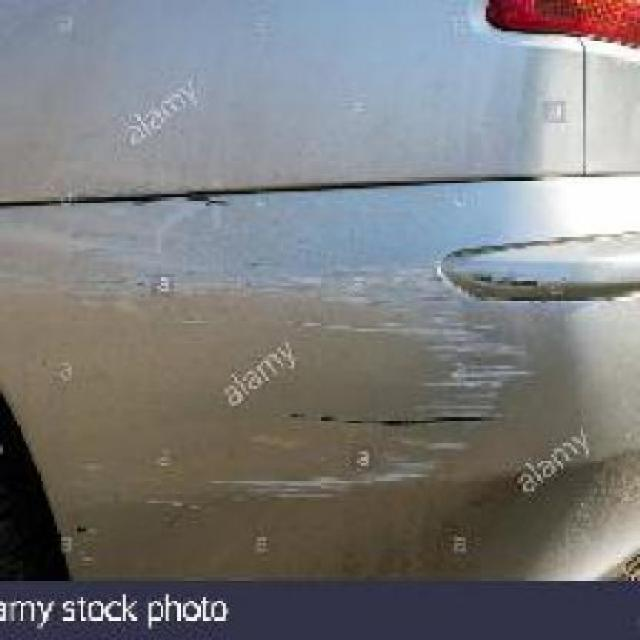dent-or-scratch: (61, 238, 510, 502)
